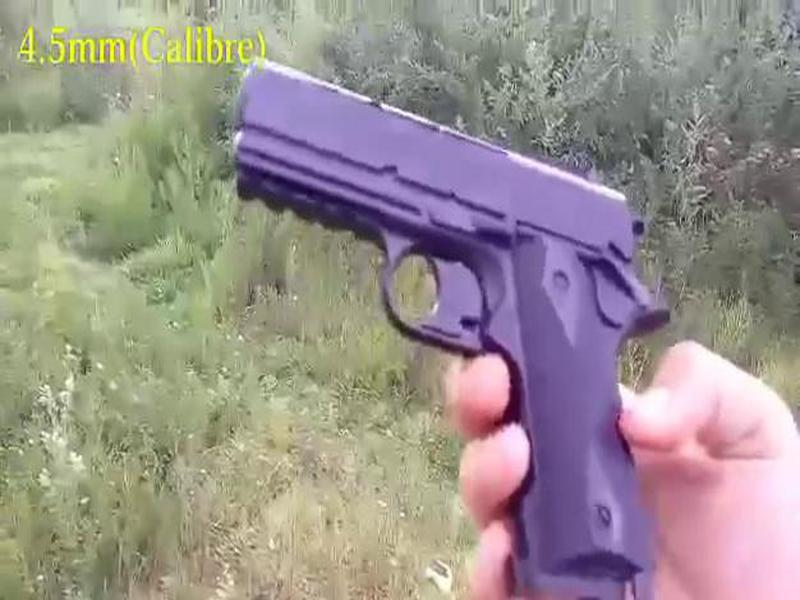Pistola: (212, 55, 714, 594)
